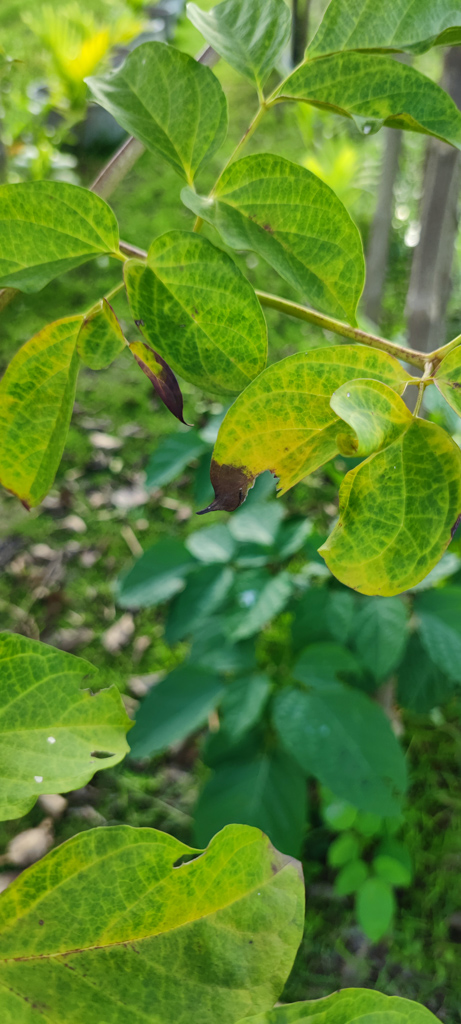Pepper yellow leaf: (209, 346, 346, 517)
